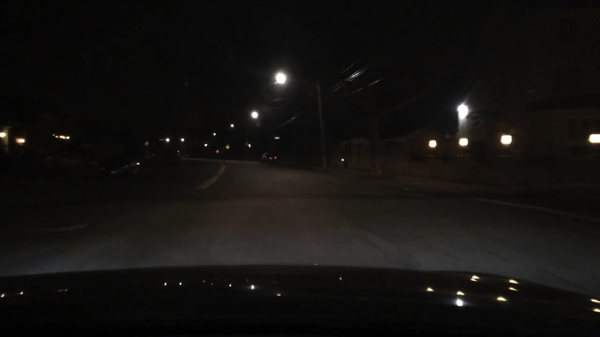car: (44, 151, 99, 167), (98, 156, 140, 176), (155, 147, 181, 166), (260, 151, 278, 163), (146, 152, 156, 164)
traffic sign: (225, 144, 230, 150)
